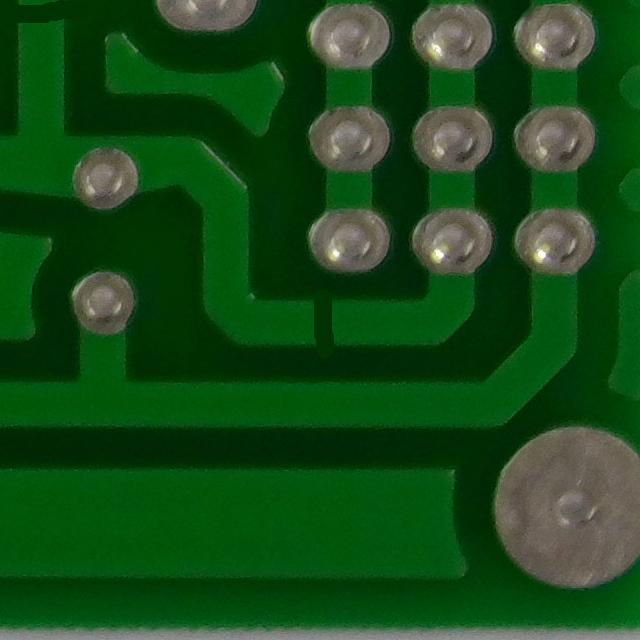open_circuit: (288, 286, 352, 355)
